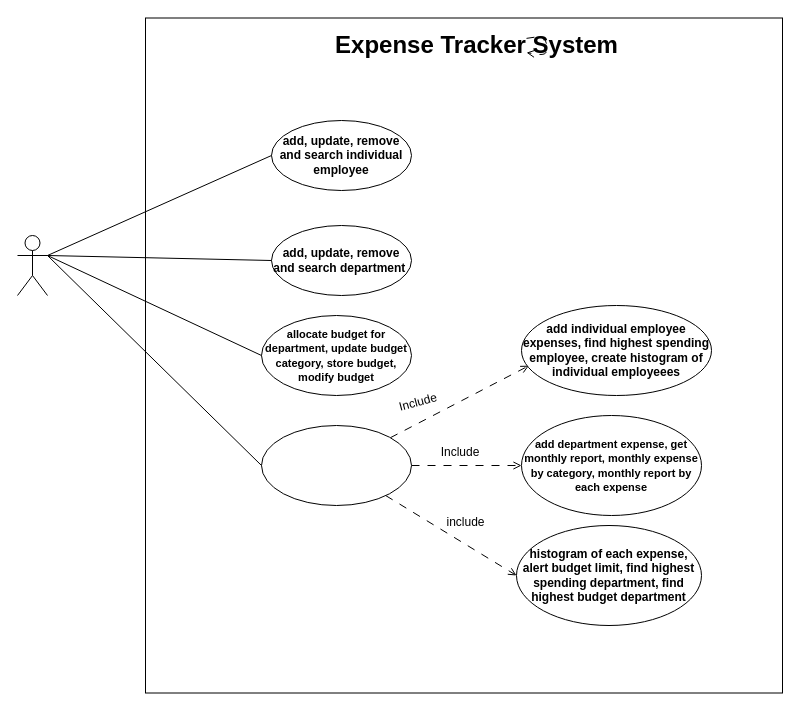
Image size: 800x710. Some labels were removed from this diagram. The box of each missing label's shape, as (x1, y1, x2, y2) in pixels:
CFO: (16, 234, 48, 296)
Manage Employee Expense: (260, 424, 412, 506)
